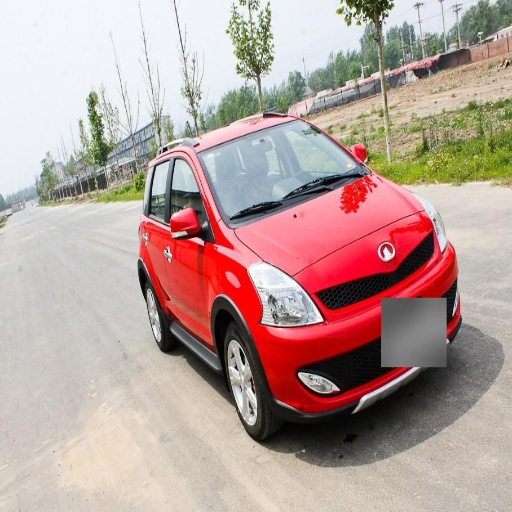back_right_door: (147, 152, 172, 298)
front_bumper: (253, 234, 452, 419)
front_right_door: (164, 151, 210, 339)
front_right_light: (252, 263, 319, 327)
